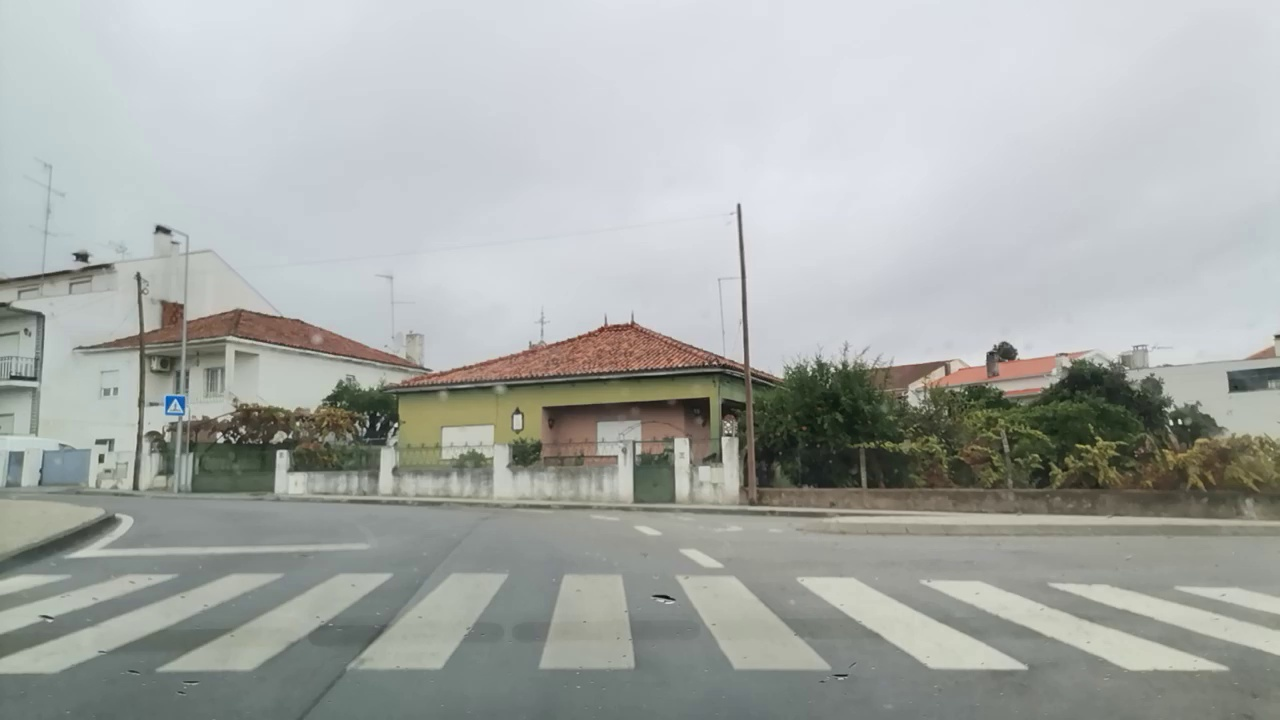Stairs: (0, 570, 1280, 676)
